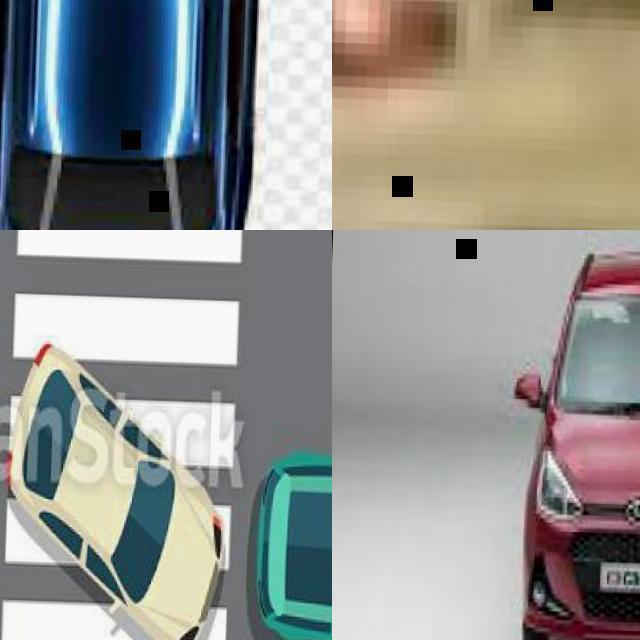car: (3, 350, 226, 639), (522, 223, 639, 639)
